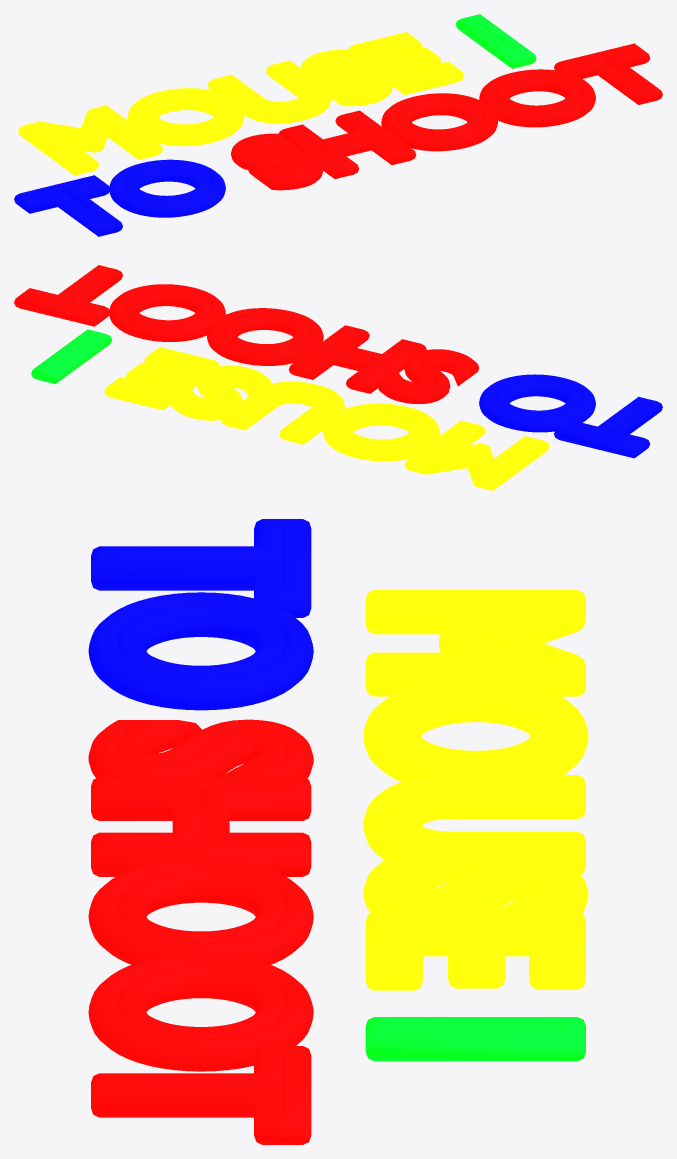
The model's file is MOUSE1_TO_SHOOT.gltf.
3 views of the same model, one above another, from view 1: azimuth 30°, elevation 25°; view 2: azimuth 150°, elevation 25°; view 3: azimuth 270°, elevation 25° (orthographic). The views are drawn at different scales.
Parts seen in each view (by area): view 1: Text; view 2: Text; view 3: Text.
Boxes of the visible parts, box(x1,y1,x2,y2) form: Text: box(14, 14, 662, 236); Text: box(14, 265, 662, 490); Text: box(88, 519, 588, 1144).
Size of the model in its own units: 5.23 by 0.12 by 1.82.
